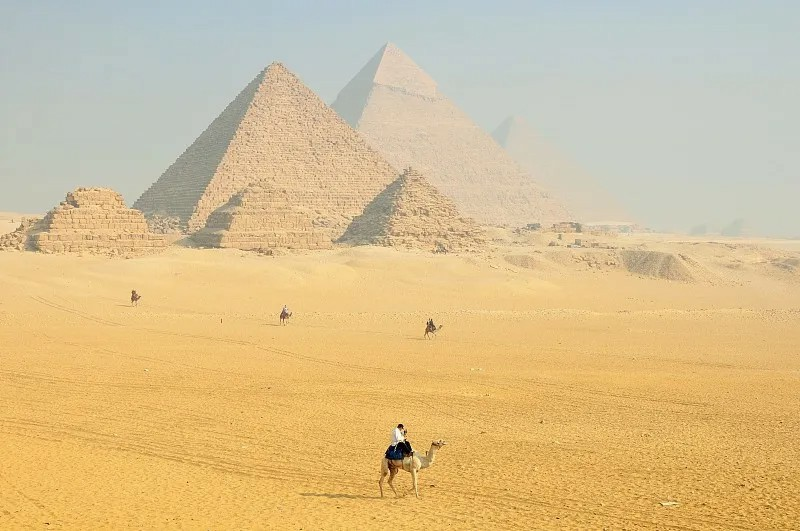Pyramid: (331, 41, 578, 234), (132, 64, 402, 239), (490, 116, 647, 231), (340, 167, 488, 248), (187, 179, 335, 251), (28, 185, 162, 249)
